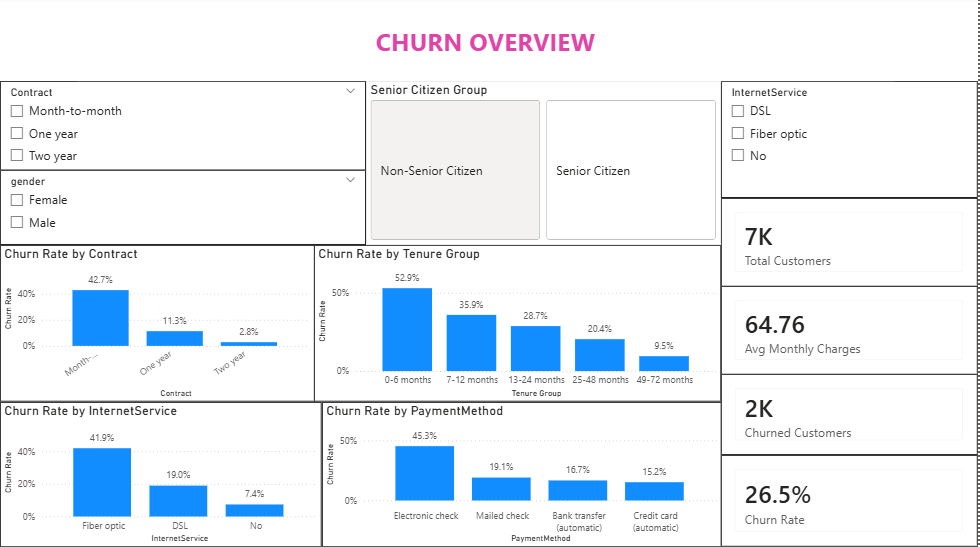

Layout of this report page (visuals, bound fields, positions):
{"tool":"powerbi","page":{"name":"Page 1","canvas":[1280,720],"ordinal":0},"visuals":[{"type":"cardVisual","fields":{"Data":["WA_Fn-UseC_-Telco-Customer-Churn.Total Customers"]},"box":[944.2,262.9,335.8,115.6],"z":0},{"type":"cardVisual","fields":{"Data":["WA_Fn-UseC_-Telco-Customer-Churn.Churned Customers"]},"box":[944.2,494.1,335.8,106],"z":1000},{"type":"cardVisual","fields":{"Data":["WA_Fn-UseC_-Telco-Customer-Churn.Churn Rate"]},"box":[944.2,600.1,335.8,119.7],"z":2000},{"type":"cardVisual","fields":{"Data":["WA_Fn-UseC_-Telco-Customer-Churn.Avg Monthly Charges"]},"box":[944.2,378.5,335.8,115.6],"z":3000},{"type":"clusteredColumnChart","fields":{"Category":["WA_Fn-UseC_-Telco-Customer-Churn.Contract"],"Y":["WA_Fn-UseC_-Telco-Customer-Churn.Churn Rate"]},"box":[0,324.8,411.5,205.1],"z":4000},{"type":"clusteredColumnChart","fields":{"Category":["WA_Fn-UseC_-Telco-Customer-Churn.InternetService"],"Y":["WA_Fn-UseC_-Telco-Customer-Churn.Churn Rate"]},"box":[0,529.9,421.2,189.9],"z":5000},{"type":"clusteredColumnChart","fields":{"Category":["WA_Fn-UseC_-Telco-Customer-Churn.PaymentMethod"],"Y":["WA_Fn-UseC_-Telco-Customer-Churn.Churn Rate"]},"box":[421.2,529.9,523,189.9],"z":6000},{"type":"clusteredColumnChart","fields":{"Category":["WA_Fn-UseC_-Telco-Customer-Churn.Tenure Group"],"Y":["WA_Fn-UseC_-Telco-Customer-Churn.Churn Rate"]},"box":[411.5,324.8,532.6,205.1],"z":7000},{"type":"slicer","fields":{"Values":["WA_Fn-UseC_-Telco-Customer-Churn.gender"]},"box":[0,227.1,479,97.7],"z":8000},{"type":"advancedSlicerVisual","fields":{"Values":["WA_Fn-UseC_-Telco-Customer-Churn.Senior Citizen Group"]},"box":[479,110.1,465.2,214.7],"z":9000},{"type":"slicer","fields":{"Values":["WA_Fn-UseC_-Telco-Customer-Churn.Contract"]},"box":[0,110.1,479,117],"z":10000},{"type":"slicer","fields":{"Values":["WA_Fn-UseC_-Telco-Customer-Churn.InternetService"]},"box":[944.2,110.1,335.8,152.8],"z":11000},{"type":"textbox","box":[100.5,30.3,1069.4,79.8],"z":11001}]}

Visuals, with their boxes in screenshot pixels (x1, y1, x2, y2), scaled from the page's 1280x720 canvas onto the 980x547 screenshot:
cardVisual - WA_Fn-UseC_-Telco-Customer-Churn.Total Customers: (723, 200, 979, 288)
cardVisual - WA_Fn-UseC_-Telco-Customer-Churn.Churned Customers: (723, 375, 979, 456)
cardVisual - WA_Fn-UseC_-Telco-Customer-Churn.Churn Rate: (723, 456, 979, 546)
cardVisual - WA_Fn-UseC_-Telco-Customer-Churn.Avg Monthly Charges: (723, 288, 979, 375)
clusteredColumnChart - WA_Fn-UseC_-Telco-Customer-Churn.Contract x WA_Fn-UseC_-Telco-Customer-Churn.Churn Rate: (0, 247, 315, 403)
clusteredColumnChart - WA_Fn-UseC_-Telco-Customer-Churn.InternetService x WA_Fn-UseC_-Telco-Customer-Churn.Churn Rate: (0, 403, 322, 546)
clusteredColumnChart - WA_Fn-UseC_-Telco-Customer-Churn.PaymentMethod x WA_Fn-UseC_-Telco-Customer-Churn.Churn Rate: (322, 403, 723, 546)
clusteredColumnChart - WA_Fn-UseC_-Telco-Customer-Churn.Tenure Group x WA_Fn-UseC_-Telco-Customer-Churn.Churn Rate: (315, 247, 723, 403)
slicer - WA_Fn-UseC_-Telco-Customer-Churn.gender: (0, 173, 367, 247)
advancedSlicerVisual - WA_Fn-UseC_-Telco-Customer-Churn.Senior Citizen Group: (367, 84, 723, 247)
slicer - WA_Fn-UseC_-Telco-Customer-Churn.Contract: (0, 84, 367, 173)
slicer - WA_Fn-UseC_-Telco-Customer-Churn.InternetService: (723, 84, 979, 200)
textbox: (77, 23, 896, 84)
